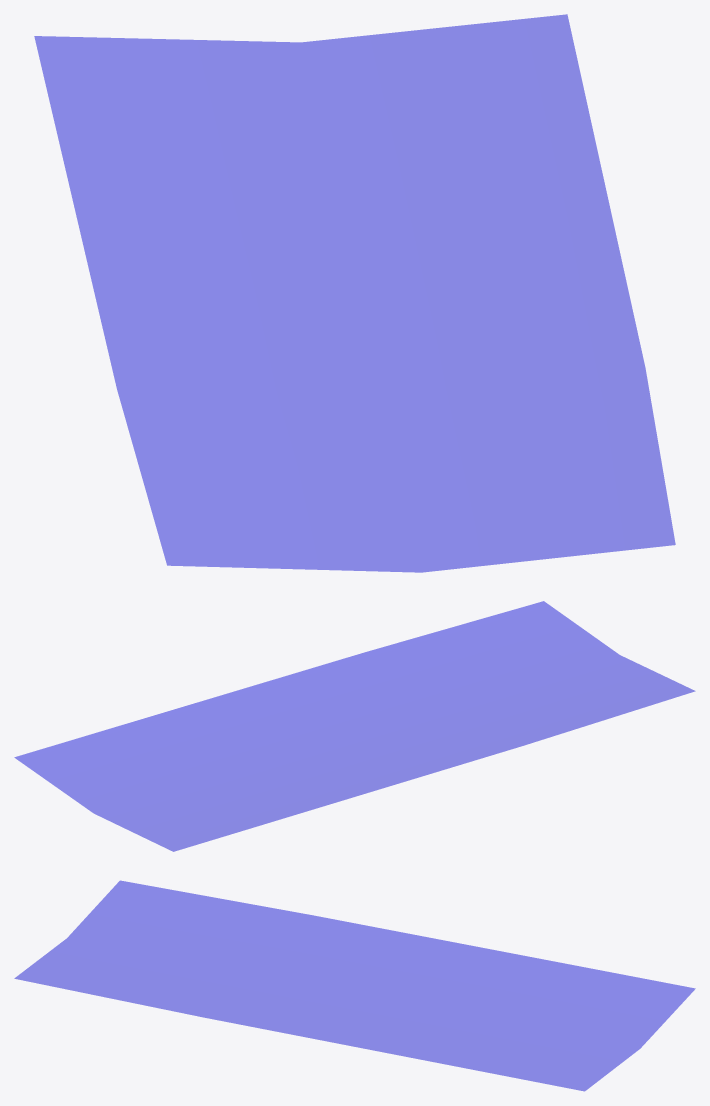
The model's file is track_la_coll_road_50.fbx.
3 renders of one model, top to bottom at view 1: azimuth 30°, elevation 25°; view 2: azimuth 150°, elevation 25°; view 3: azimuth 270°, elevation 25°, orthographic. The views are drawn at different scales.
Visible parts, largest first — view 1: track_la_coll_road_50; view 2: track_la_coll_road_50; view 3: track_la_coll_road_50.
Boxes of the visible parts, bbox=[...] form: track_la_coll_road_50: bbox=[34, 14, 675, 572]; track_la_coll_road_50: bbox=[14, 601, 695, 851]; track_la_coll_road_50: bbox=[14, 880, 695, 1091].
Size of the model in its own units: 40 by 0.7636 by 54.61.
